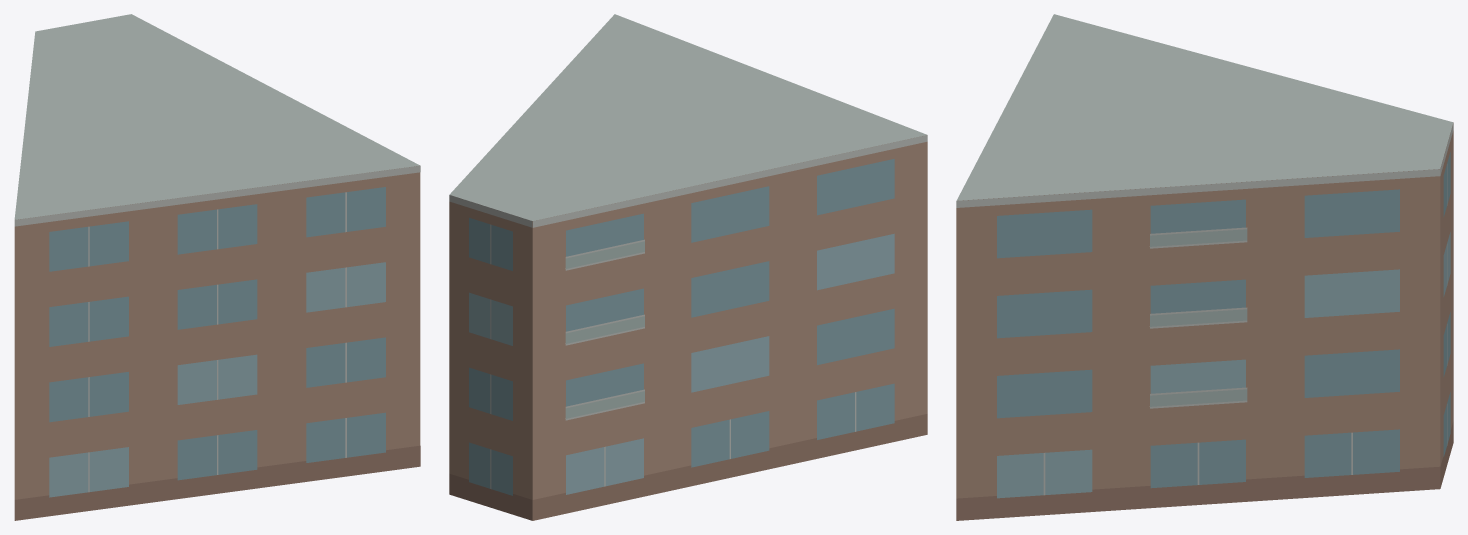
Rendered from survey-upis-32805735.glb.
The picture shows the model from 3 angles, left to right: view 1: azimuth 30°, elevation 25°; view 2: azimuth 150°, elevation 25°; view 3: azimuth 270°, elevation 25°; orthographic projection. The views are drawn at different scales.
Parts seen in each view (by area): view 1: survey-upis-32805735.tmp; view 2: survey-upis-32805735.tmp; view 3: survey-upis-32805735.tmp.
Part boxes in pixels (x1=…): survey-upis-32805735.tmp: x1=14, y1=14, x2=420, y2=520; survey-upis-32805735.tmp: x1=449, y1=14, x2=927, y2=520; survey-upis-32805735.tmp: x1=956, y1=14, x2=1453, y2=520.
Size of the model in its own units: 13.66 by 10.9 by 15.36.
